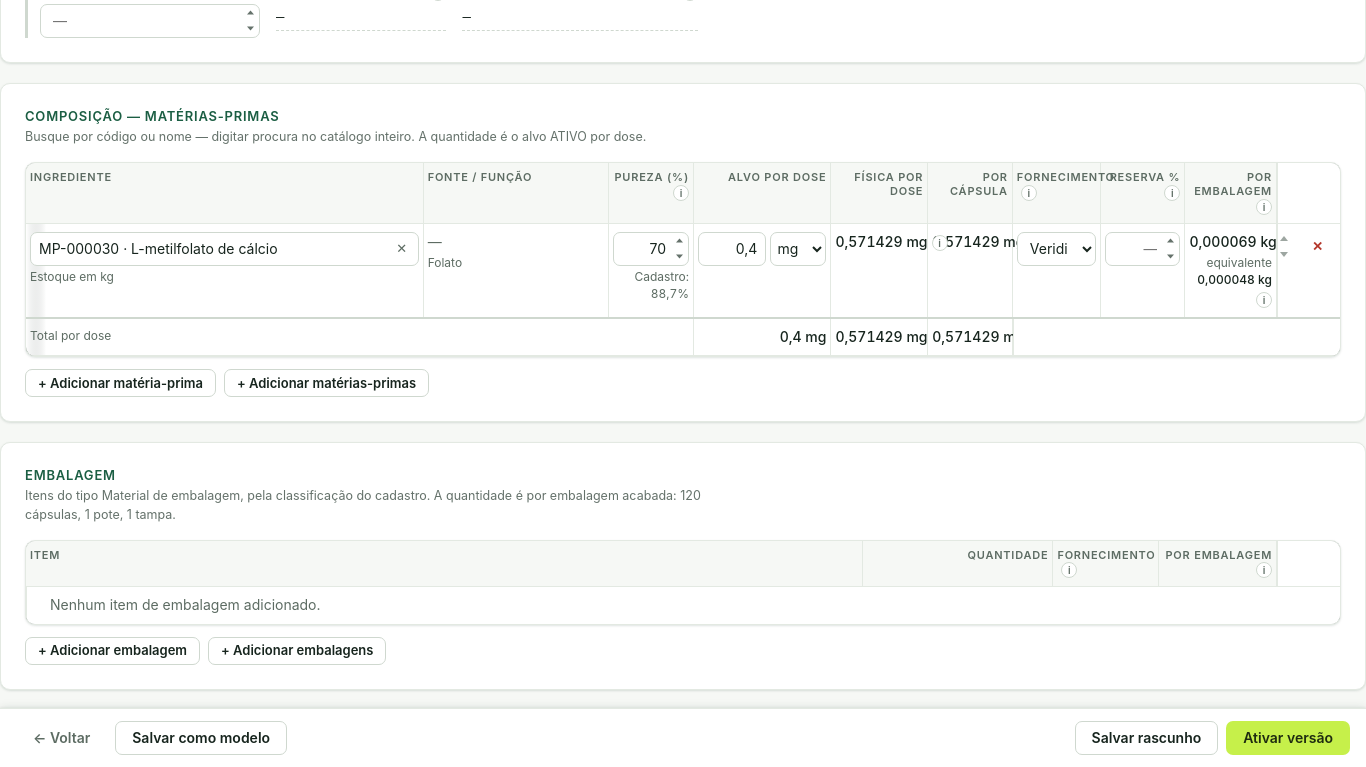
Scenario: Formulação — + Adicionar matérias-primas › abre a consulta múltipla no recorte da composição, com as colunas que distinguem matérias-primas
The width and height of the screenshot is (1366, 767).
(page scrolled)
Click the button "+ Adicionar matérias-primas" at [327, 383], box [224,369,429,397]
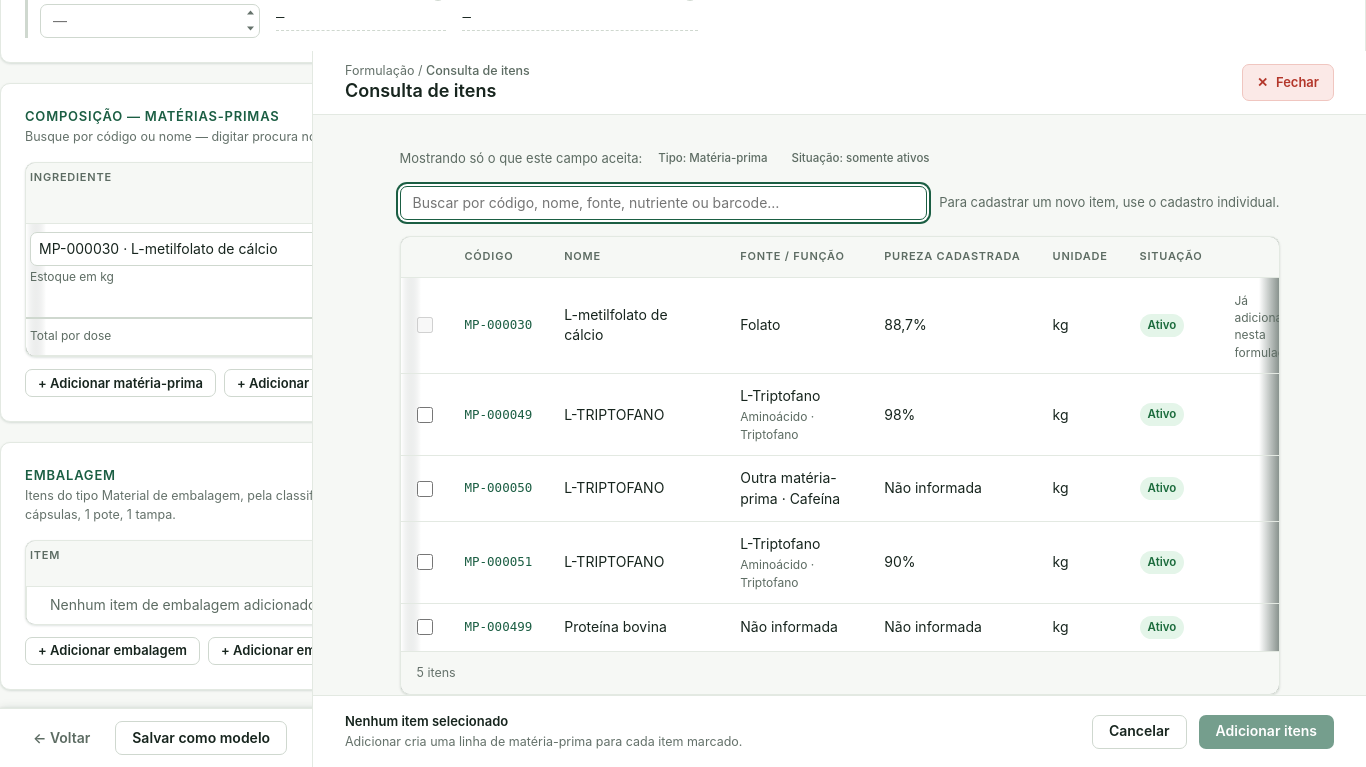
Check: the heading "Consulta de itens" is shown, box [345,80,496,103]
Check: the text "Tipo: Matéria-prima" is shown, box [650,147,776,170]
Check: the text "Situação: somente ativos" is shown, box [784,147,938,170]
